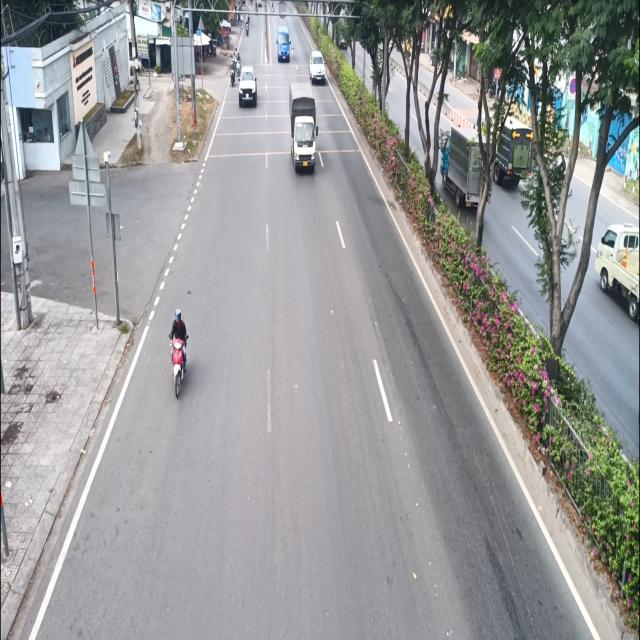car: (240, 64, 258, 107), (310, 48, 326, 88)
motor: (169, 301, 191, 397)
truck: (284, 77, 320, 176)
